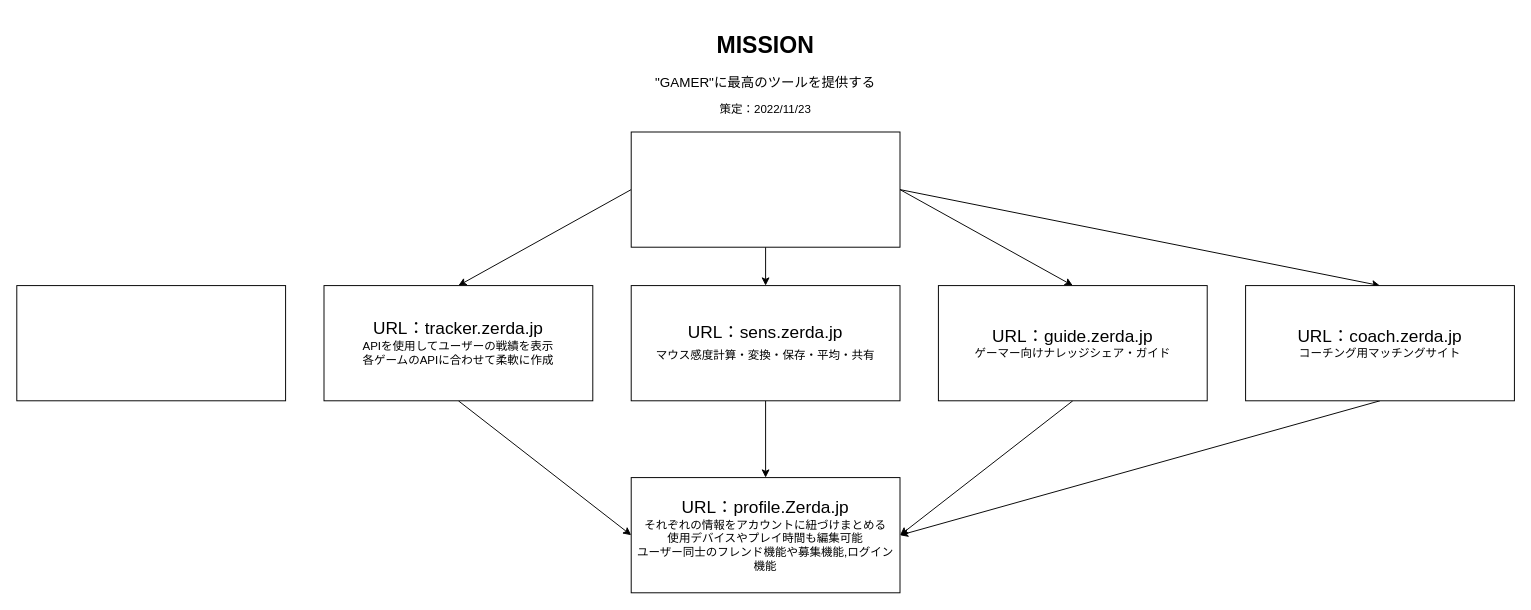
Image size: 1531x610. Some labels were removed from this diagram. Here are the shapes that lost their labels. From the top down, the box of each, then its label:
(630, 131, 900, 247): URL：zerda.jp HPとしての役割 各サービスへのリンク
(16, 285, 286, 401): URL：docs.zerda.jp mdbookを使用し、各ツールのdocsを作成 とりあえずここを見れば解決する。
